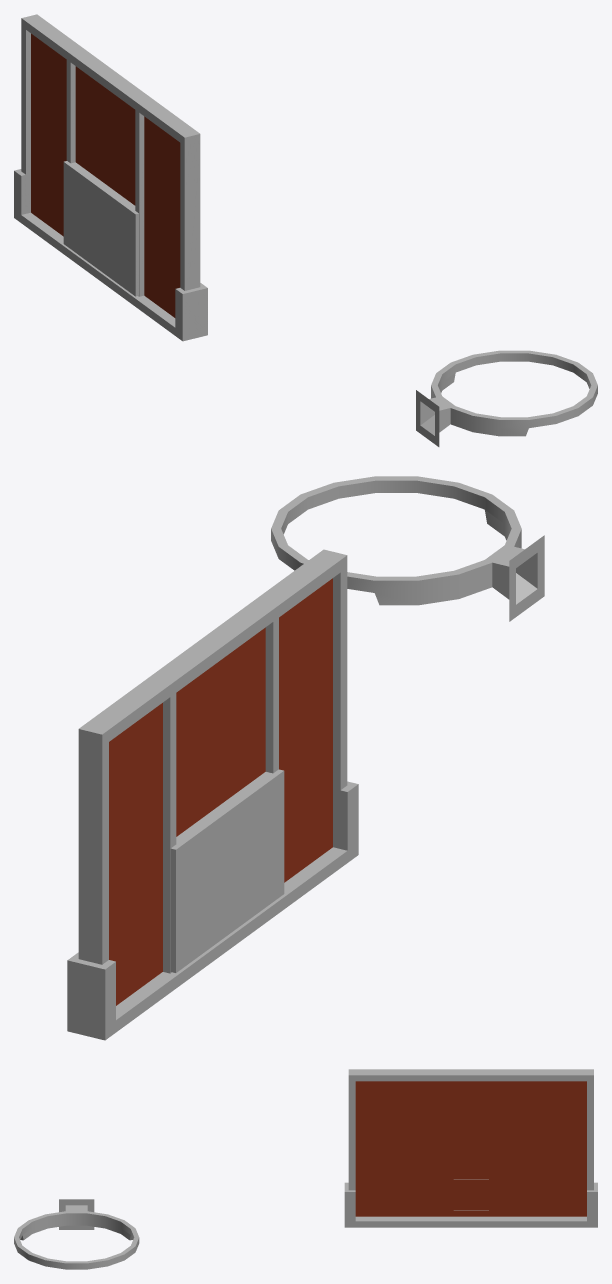
File: Basket.fbx
3 renders of one model, top to bottom at view 1: azimuth 30°, elevation 25°; view 2: azimuth 150°, elevation 25°; view 3: azimuth 270°, elevation 25°, orthographic. The views are drawn at different scales.
Visible parts, largest first — view 1: Pole, Pole.001; view 2: Pole, Pole.001; view 3: Pole, Pole.001.
Boxes of the visible parts, x1,y1,x2,y2 form: Pole: (14, 14, 207, 341); Pole.001: (416, 350, 597, 446); Pole: (67, 549, 358, 1040); Pole.001: (271, 476, 544, 621); Pole: (344, 1069, 597, 1227); Pole.001: (14, 1199, 139, 1269).
Size of the model in its own units: 143 by 122 by 429.
